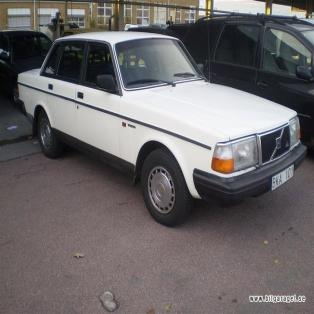Auto: (16, 30, 308, 225)
